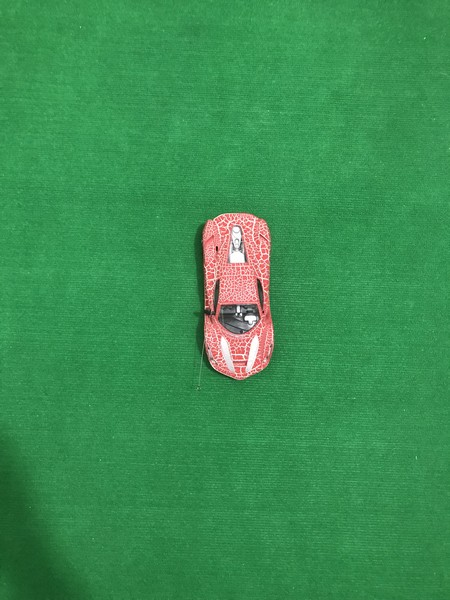RC: (197, 211, 277, 384)
